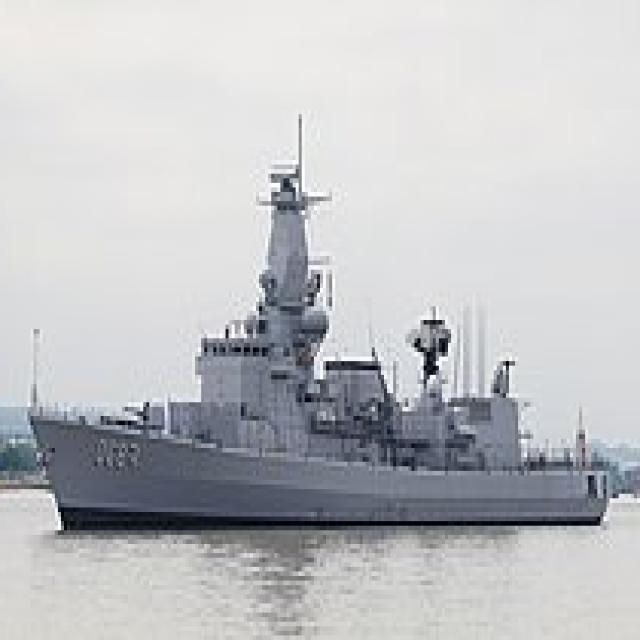Warship: (28, 110, 612, 526)
